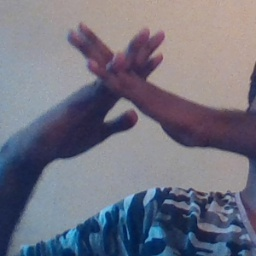W: (58, 11, 181, 147)
